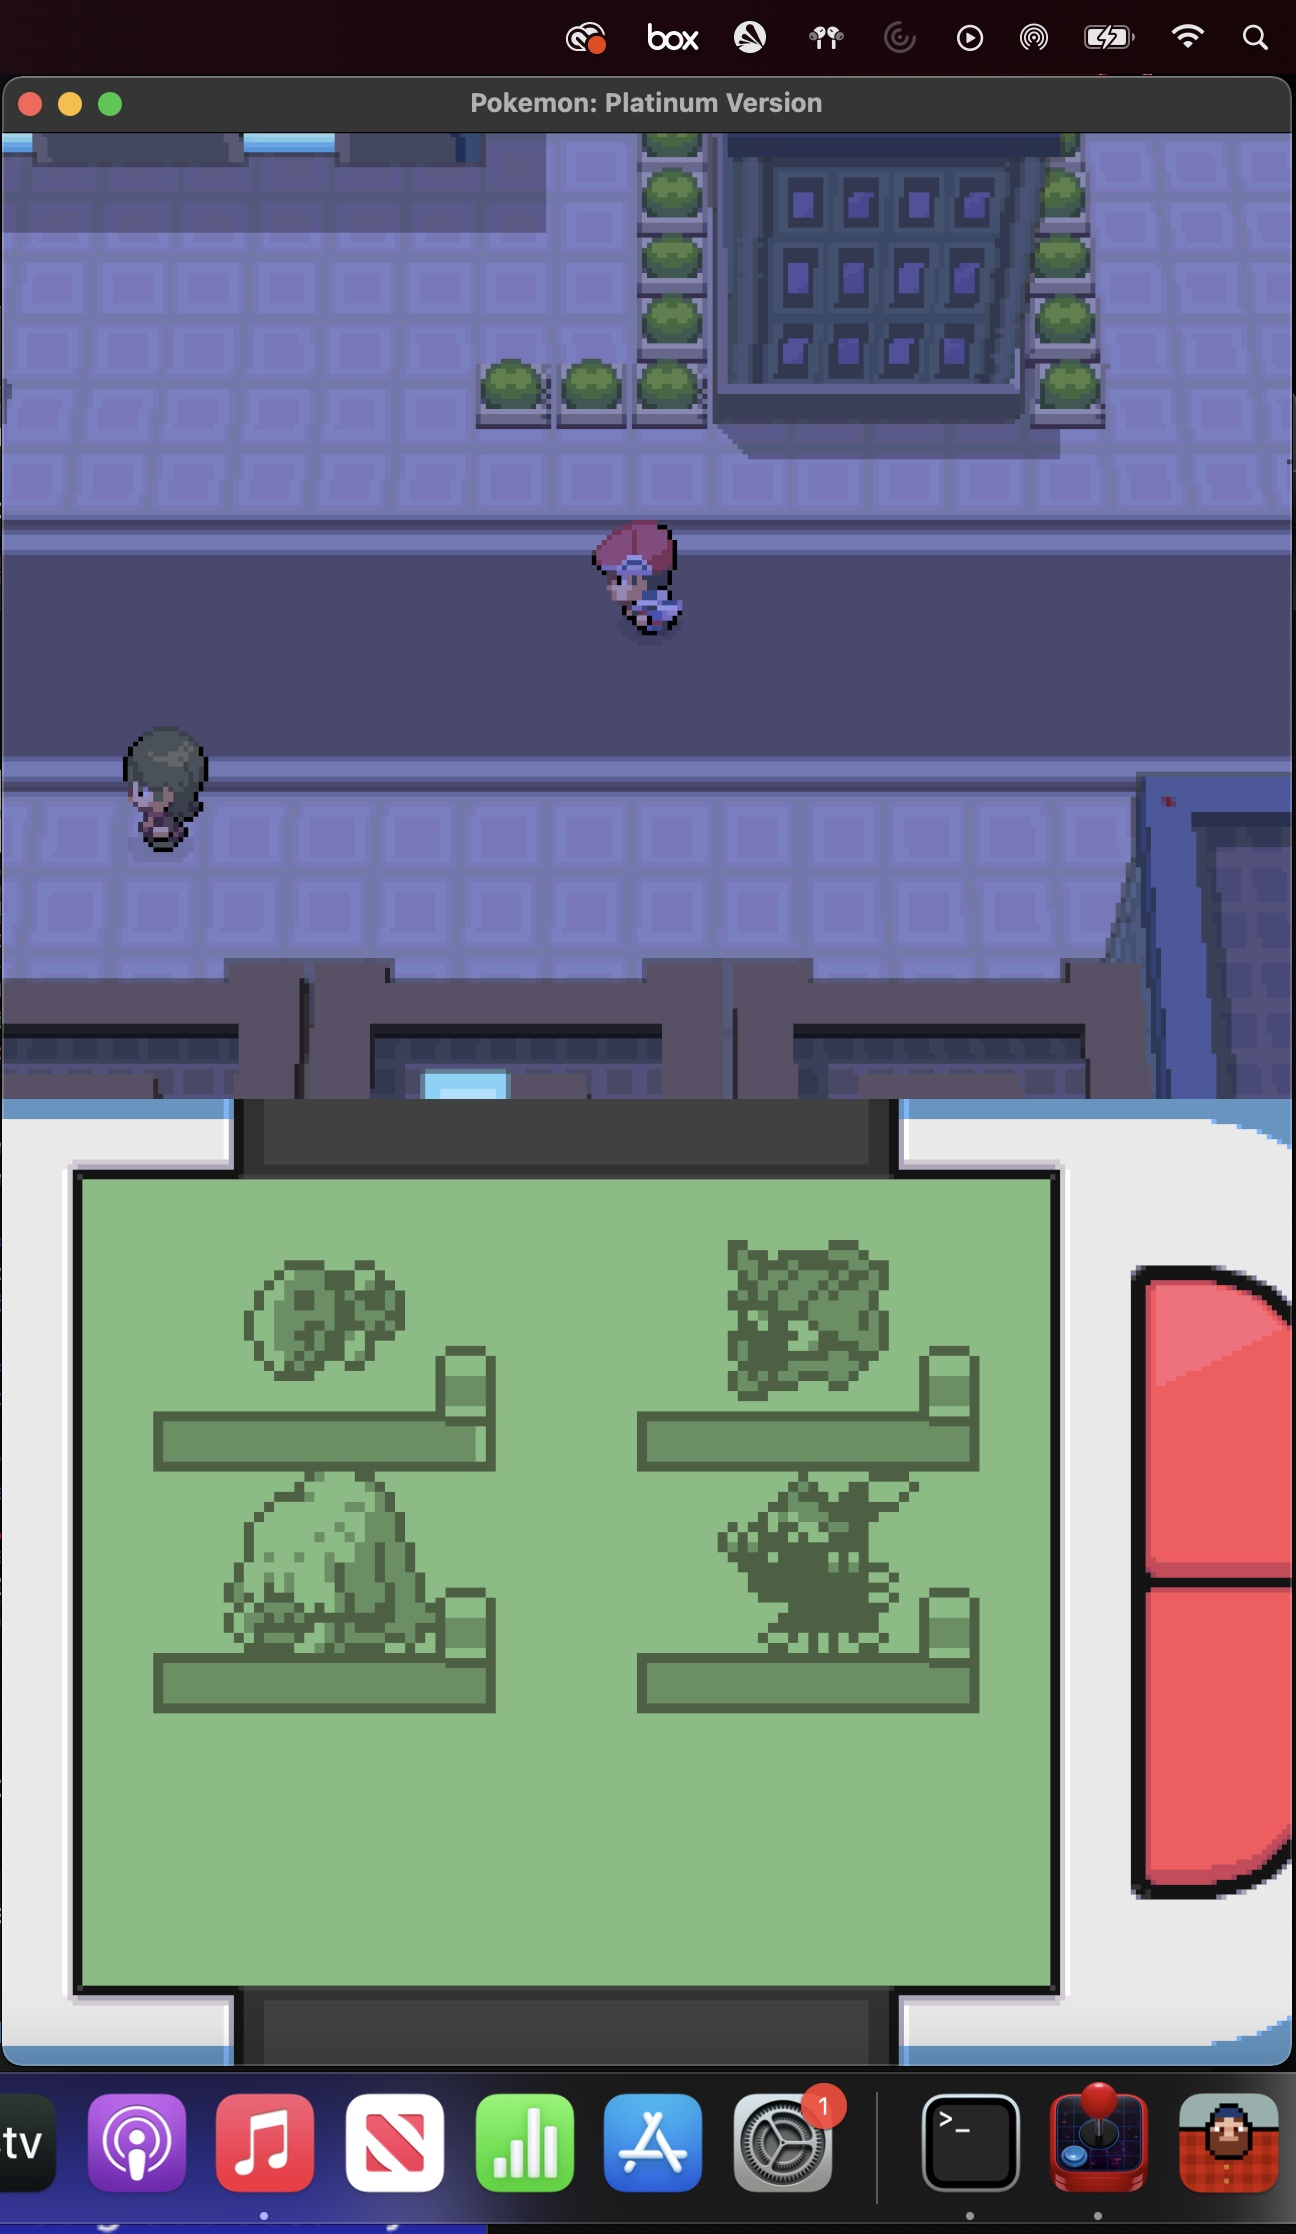player: (584, 513, 697, 651)
